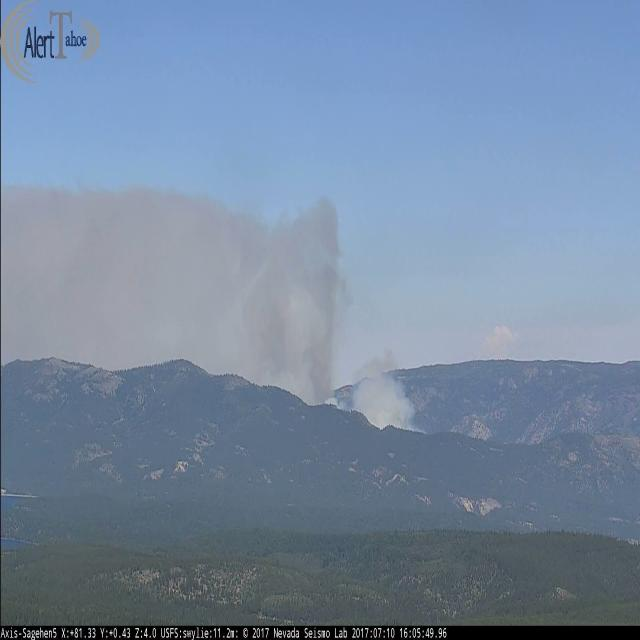smoke: (3, 183, 342, 400), (328, 368, 426, 439)
